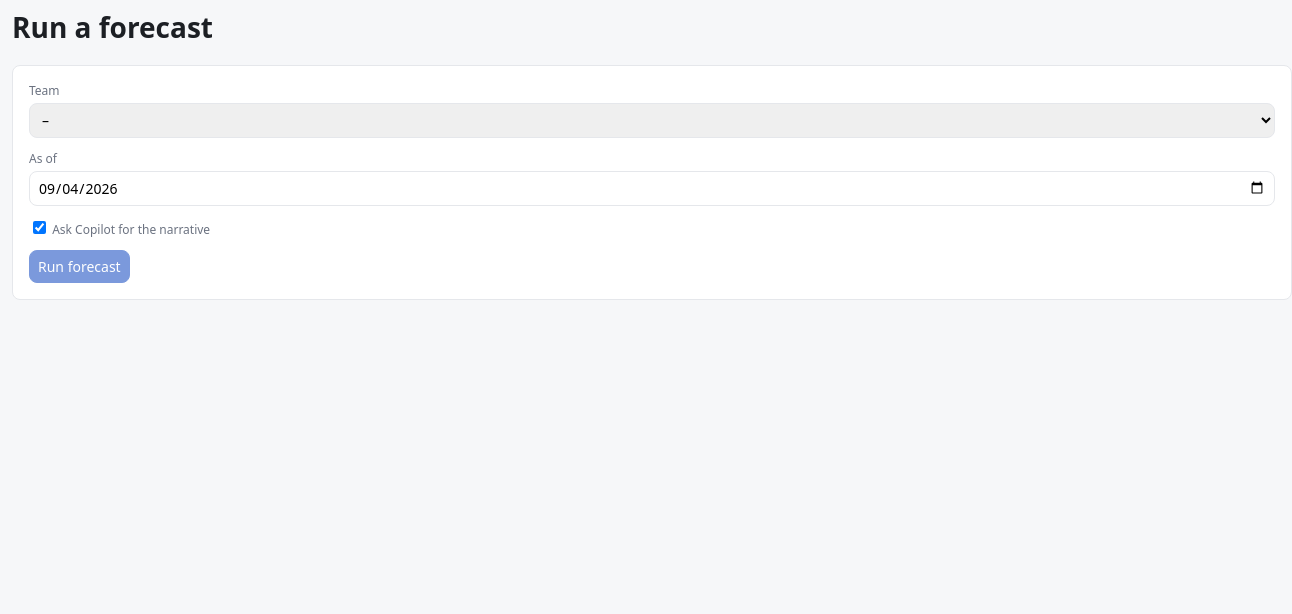
Test: Run › keeps the forecast when the narrative fails and shows the reason
The width and height of the screenshot is (1292, 614).
Select "Core" in the dropdown labelled "Team" at coordinates (652, 120), box [29,102,1275,138]
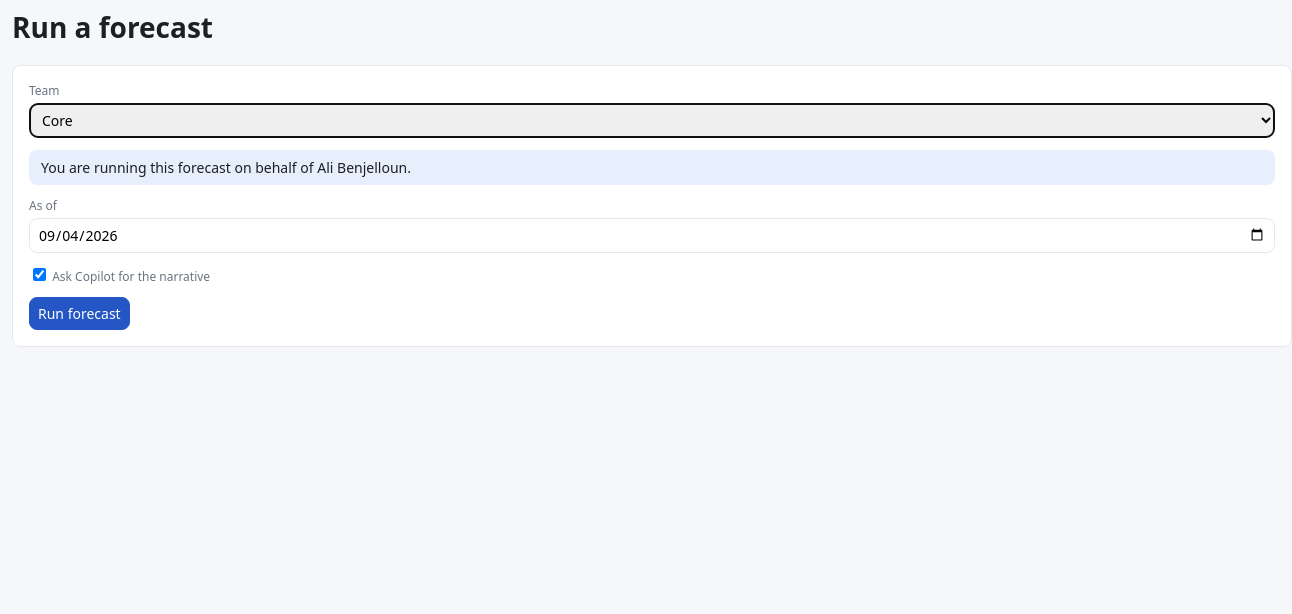
expect the text "You are running this forecast on behalf of Ali Benjelloun." is shown: met, box [29,150,1275,184]
Click the button "Run forecast" at coordinates (79, 313), box [29,296,130,330]
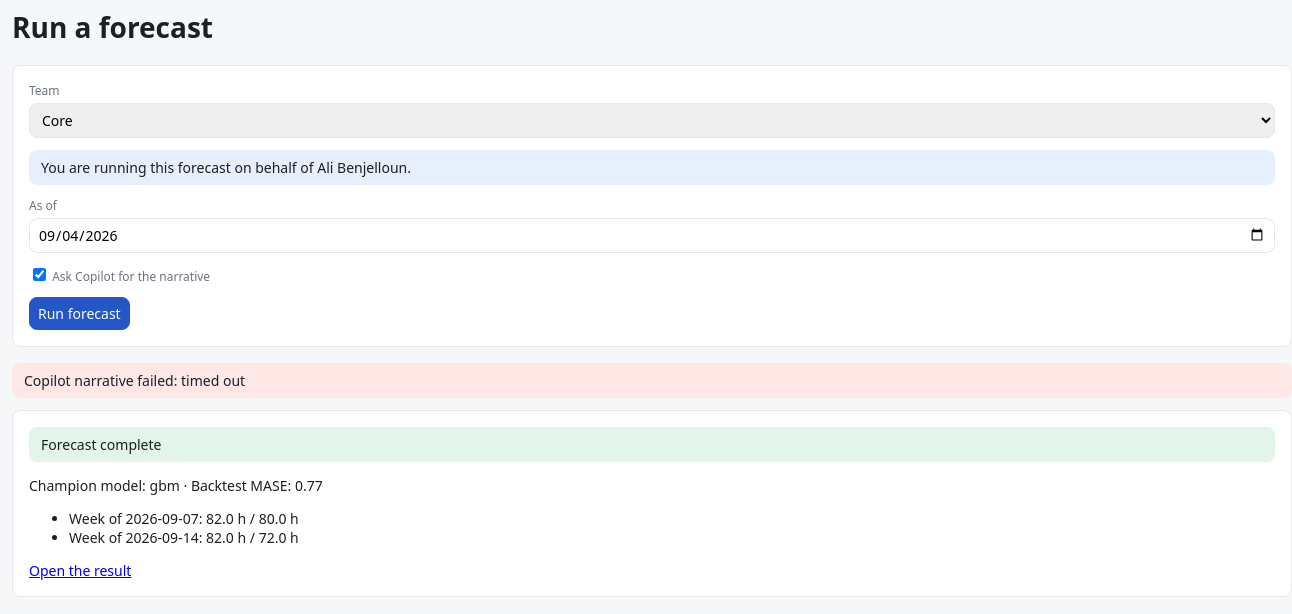
expect the text "Forecast complete" is shown: met, box [29,426,1275,462]
expect the text "Copilot narrative failed: timed out" is shown: met, box [12,362,1291,398]
